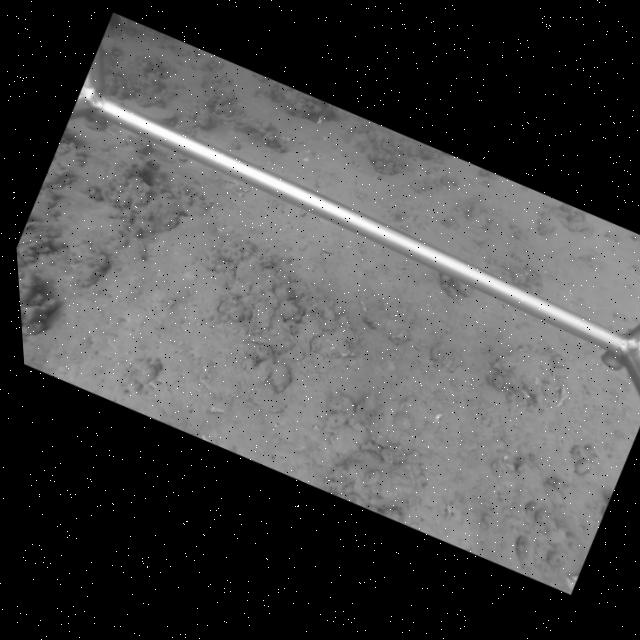Oyster-Closed: (450, 278, 472, 298)
